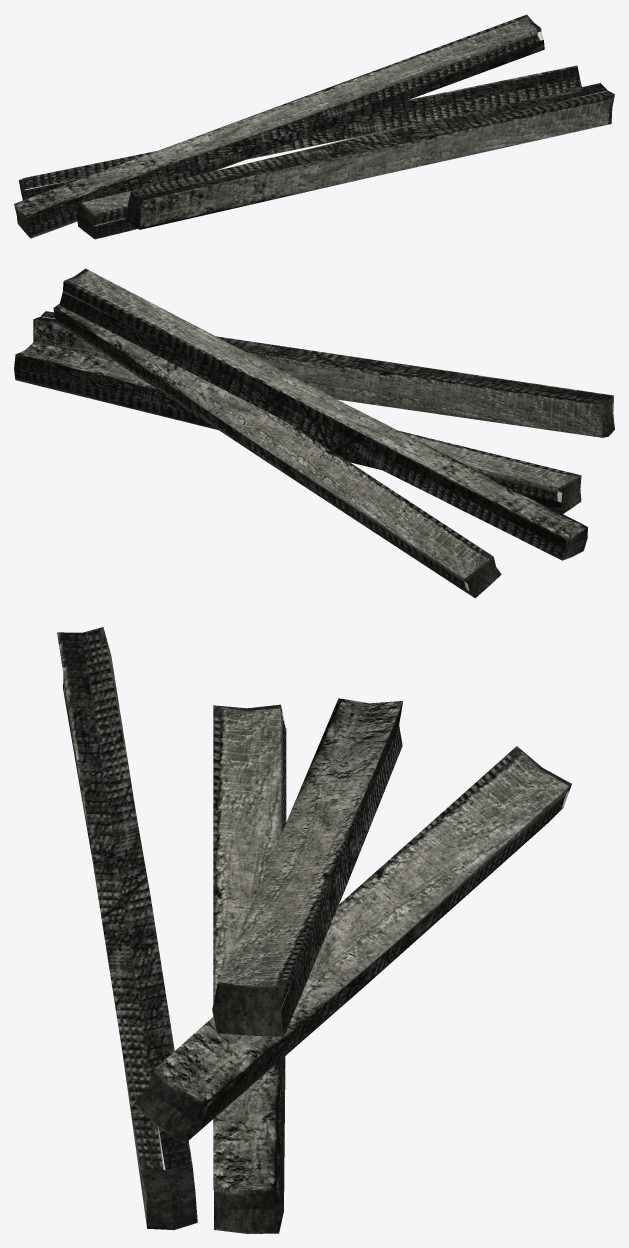
Rendered from fourBoards.fbx.
3 renders of one model, top to bottom at view 1: azimuth 30°, elevation 25°; view 2: azimuth 150°, elevation 25°; view 3: azimuth 270°, elevation 25°, orthographic. The views are drawn at different scales.
Visible parts, largest first — view 1: polySurface14; view 2: polySurface14; view 3: polySurface14.
Part boxes in pixels (x1,y1,x2,y2): polySurface14: (14, 14, 614, 239); polySurface14: (14, 268, 614, 598); polySurface14: (57, 627, 571, 1233).
Bounding box in the file's own units: 38.64 × 9.04 × 15.99.
